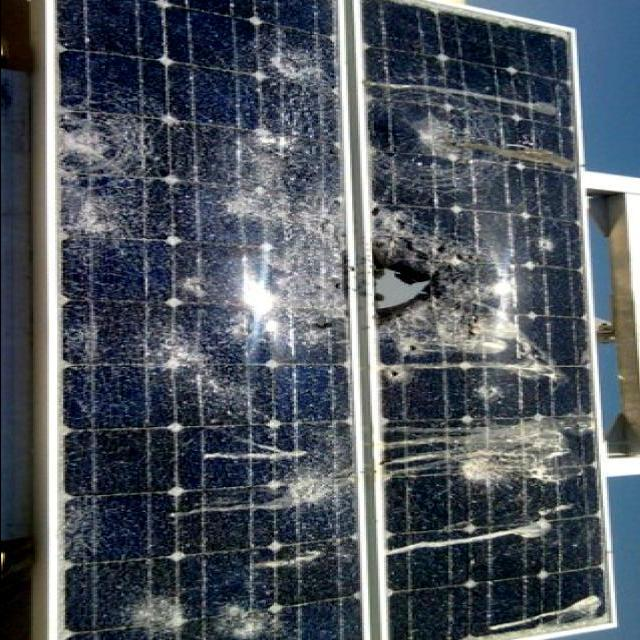cracked: (40, 4, 336, 640), (364, 8, 613, 640)
